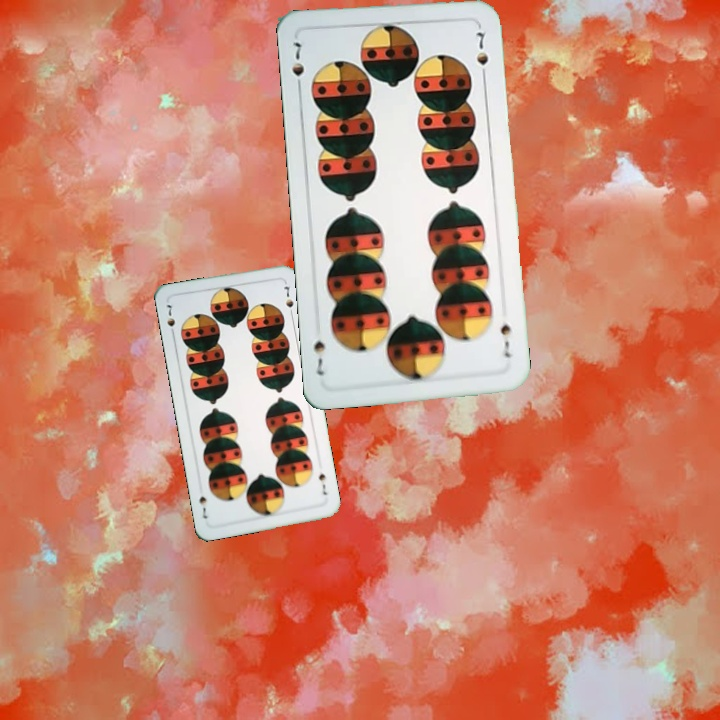S7: (288, 38, 307, 94), (496, 320, 513, 360), (162, 300, 178, 339), (314, 470, 330, 497)
